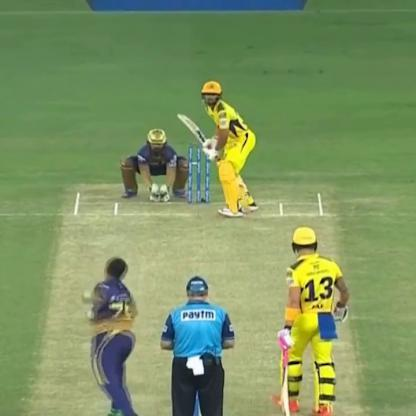ball: (74, 306, 95, 321), (79, 288, 93, 304)
bat: (170, 101, 218, 160)
pitch: (29, 185, 375, 416)
